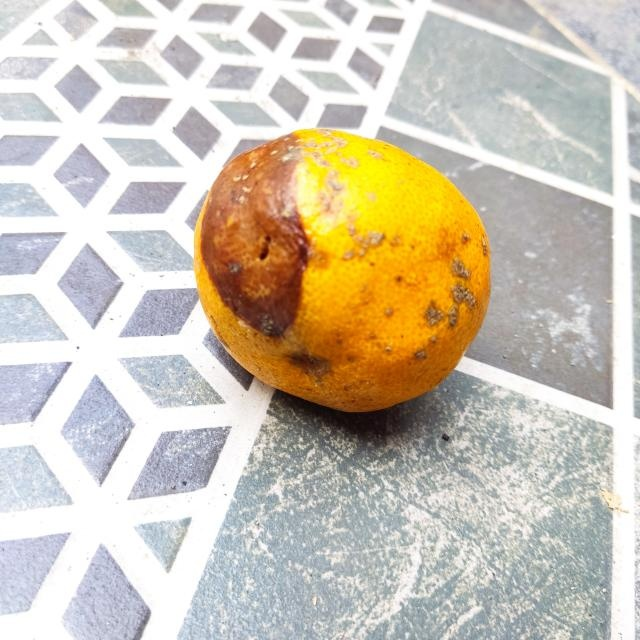agrume: (193, 127, 491, 415)
